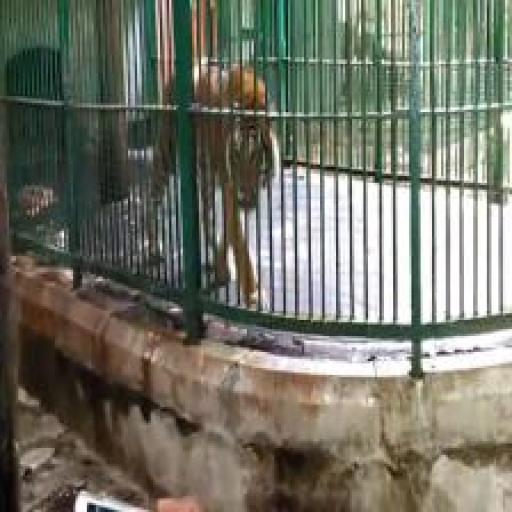Tiger: (144, 52, 287, 308)
